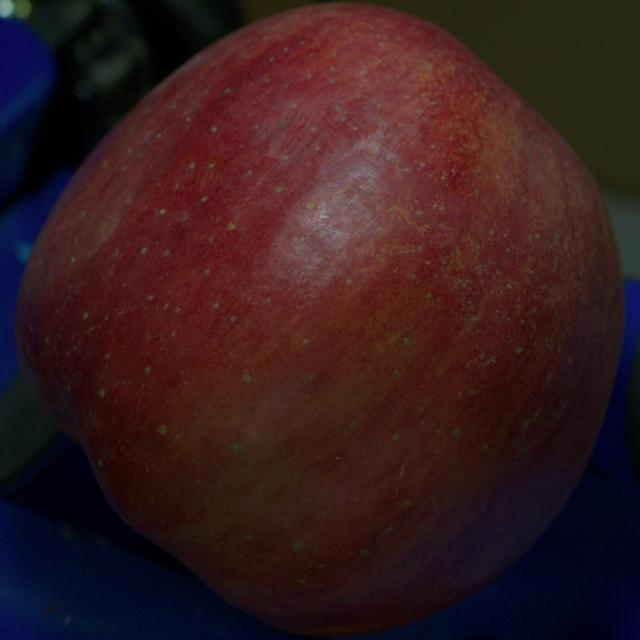apple: (16, 4, 624, 636)
